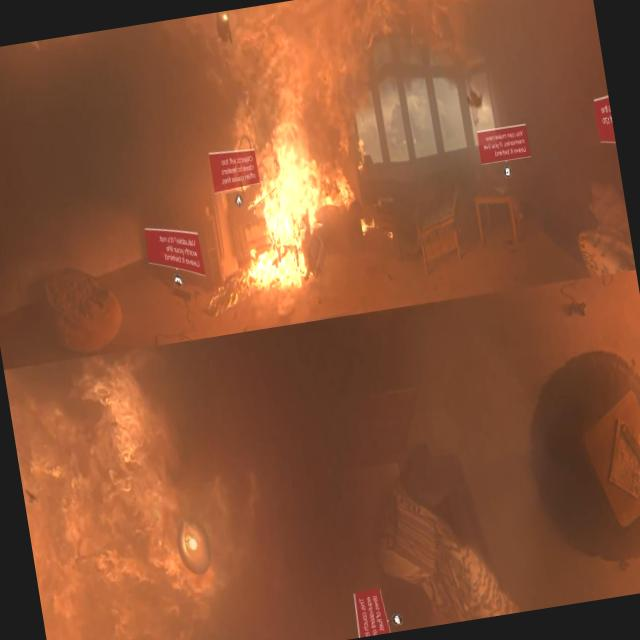fire: (195, 0, 416, 295)
